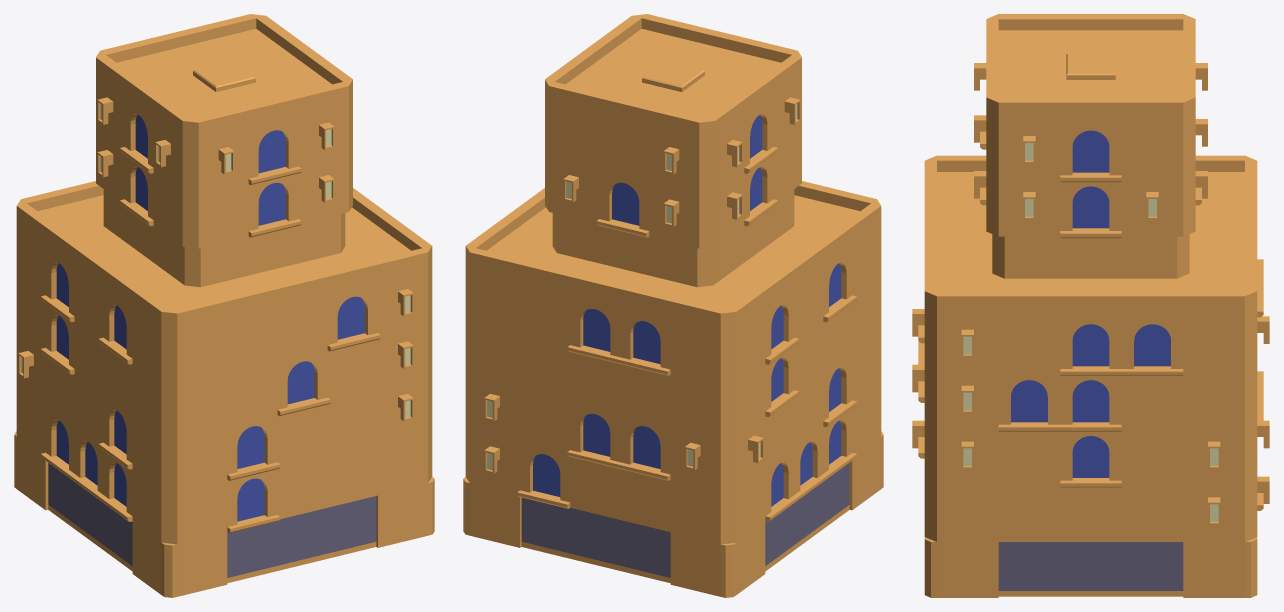
File: house v2.fbx
3 views of the same model, side by side, from view 1: azimuth 30°, elevation 25°; view 2: azimuth 150°, elevation 25°; view 3: azimuth 270°, elevation 25° (orthographic). The views are drawn at different scales.
Visible parts, largest first — view 1: House.001; view 2: House.001; view 3: House.001.
Part boxes in pixels (box(x1,y1,x2,y2)): House.001: box(14, 14, 434, 597); House.001: box(463, 14, 883, 597); House.001: box(912, 14, 1269, 597).
Bounding box in the file's own units: 580 × 840 × 580.
